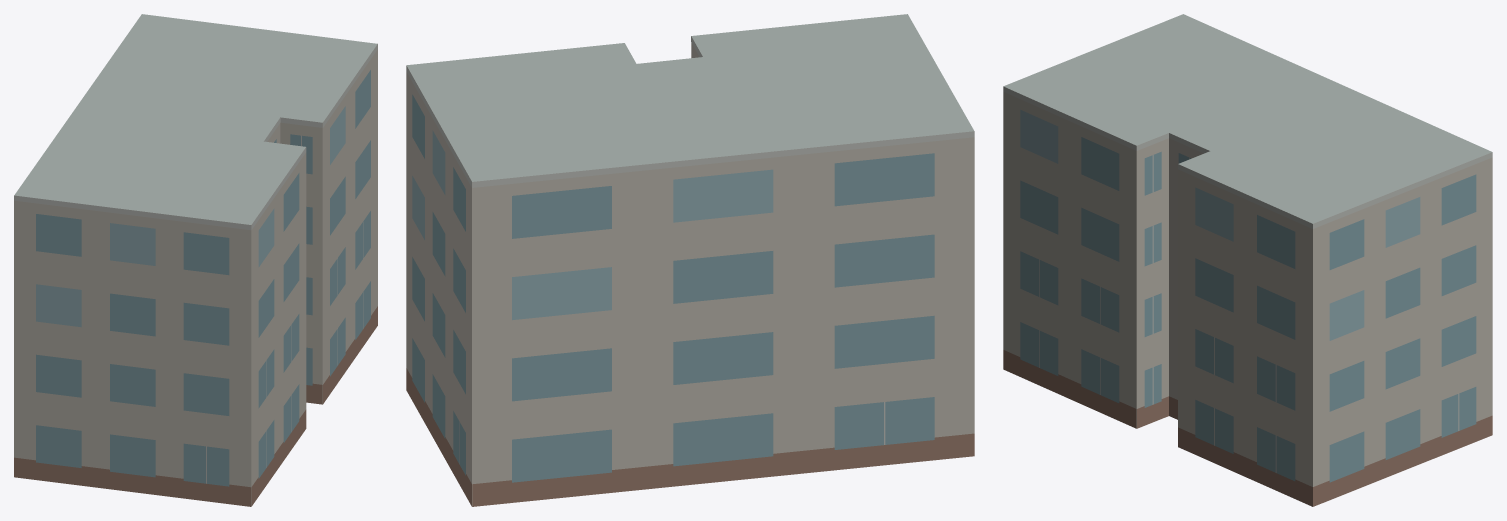
File: survey-upis-32590290.glb
3 renders of one model, left to right at view 1: azimuth 30°, elevation 25°; view 2: azimuth 150°, elevation 25°; view 3: azimuth 270°, elevation 25°, orthographic. The views are drawn at different scales.
Visible parts, largest first — view 1: survey-upis-32590290.tmp; view 2: survey-upis-32590290.tmp; view 3: survey-upis-32590290.tmp.
Part boxes in pixels (x1,y1,x2,y2): survey-upis-32590290.tmp: (14, 14, 377, 506); survey-upis-32590290.tmp: (406, 14, 974, 506); survey-upis-32590290.tmp: (1003, 14, 1492, 506).
Size of the model in its own units: 20.92 by 13.15 by 20.62.
